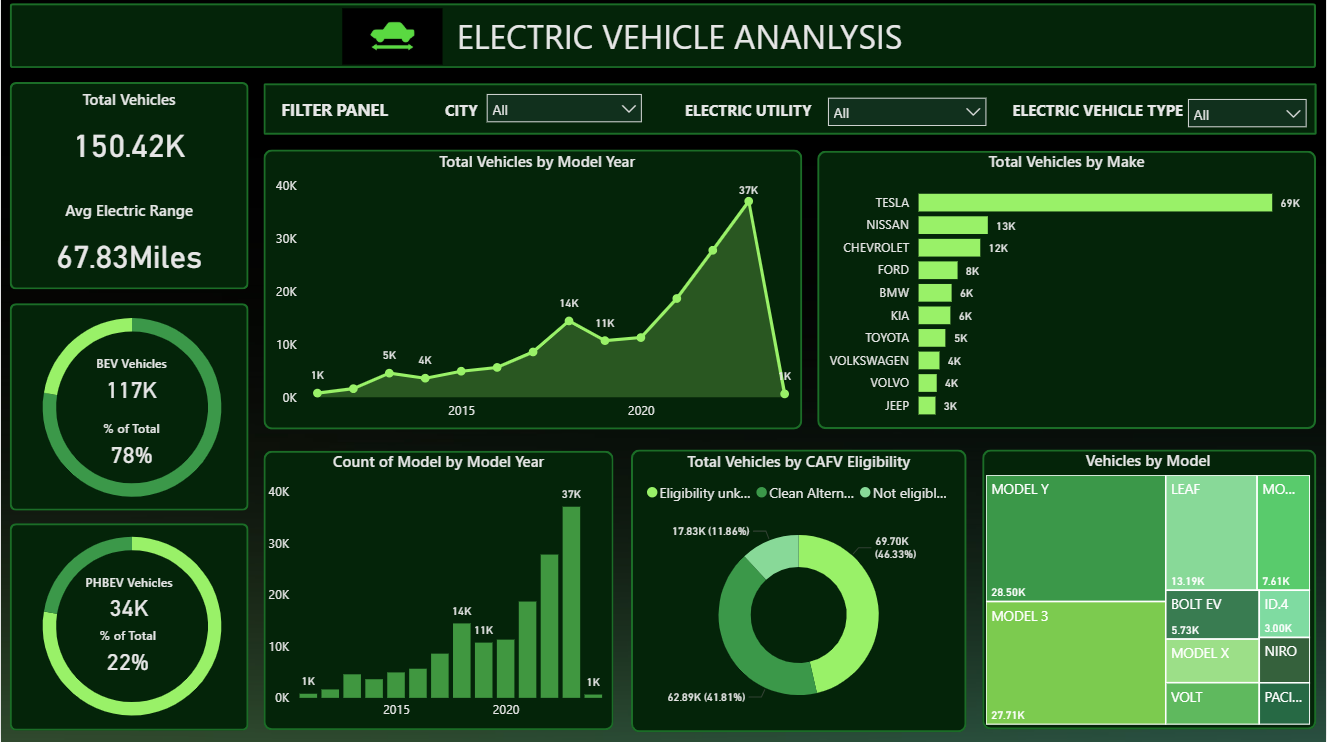

The dashboard page shown, as its layout file describes it:
{"tool":"powerbi","page":{"name":"Page 1","canvas":[1280,720],"ordinal":0},"visuals":[{"type":"shape","box":[8.4,6,1260.7,62.7],"z":0},{"type":"textbox","box":[389.7,10.9,530.8,57.9],"z":1000},{"type":"shape","box":[8.2,82.3,230.5,200.3],"z":2000},{"type":"card","title":"Total Vehicles","fields":{"Values":["Electric_Vehicle_Population_Data.Total Vehicles"]},"box":[8.4,88.1,230.4,88.1],"z":3000},{"type":"card","title":"Avg Electric Range","fields":{"Values":["Electric_Vehicle_Population_Data.AVG Range"]},"box":[8.4,195.4,230.4,86.9],"z":4000},{"type":"shape","box":[8.2,295,230.5,200.3],"z":5000},{"type":"shape","box":[8.2,507.7,230.5,200.3],"z":6000},{"type":"donutChart","fields":{"Category":["Electric_Vehicle_Population_Data.Electric Vehicle Type"],"Y":["Electric_Vehicle_Population_Data.Total Vehicles"]},"box":[0,283.5,253.4,225.6],"z":7000},{"type":"card","title":"BEV Vehicles","fields":{"Values":["Electric_Vehicle_Population_Data.BEV Vehicles"]},"box":[68.8,345,114.6,51.9],"z":8000},{"type":"card","title":"% of Total","fields":{"Values":["Electric_Vehicle_Population_Data.% of BEV"]},"box":[68.8,407.8,114.6,51.9],"z":9000},{"type":"donutChart","fields":{"Category":["Electric_Vehicle_Population_Data.Electric Vehicle Type"],"Y":["Electric_Vehicle_Population_Data.Total Vehicles"]},"box":[0,494.6,253.4,225.6],"z":10000},{"type":"card","title":"PHBEV Vehicles","fields":{"Values":["Electric_Vehicle_Population_Data.PHEV Vehicles"]},"box":[66.4,556.2,114.6,51.9],"z":11000},{"type":"card","title":"% of Total","fields":{"Values":["Electric_Vehicle_Population_Data.% of PHEV"]},"box":[65.1,608,114.6,51.9],"z":12000},{"type":"shape","box":[252.9,82.7,1016.4,49.8],"z":13000},{"type":"shape","box":[253.4,147.2,520,270.2],"z":14000},{"type":"shape","box":[787.8,148.3,481.5,268.7],"z":15000},{"type":"areaChart","fields":{"Category":["Electric_Vehicle_Population_Data.Model Year"],"Y":["Electric_Vehicle_Population_Data.Total Vehicles"]},"box":[260.6,148.4,513.9,269],"z":16000},{"type":"shape","box":[946.8,436.4,322.5,270.3],"z":17000},{"type":"barChart","fields":{"Category":["Electric_Vehicle_Population_Data.Make"],"Y":["Electric_Vehicle_Population_Data.Total Vehicles"]},"box":[787.8,148.3,481.5,268.7],"z":18000},{"type":"shape","box":[607.9,436.4,323.8,273.1],"z":19000},{"type":"donutChart","title":"Total Vehicles by CAFV Eligibility","fields":{"Category":["Electric_Vehicle_Population_Data.Clean Alternative Fuel Vehicle (CAFV) Eligibility"],"Y":["Electric_Vehicle_Population_Data.Total Vehicles"]},"box":[607.6,438.3,324.1,267.6],"z":20000},{"type":"treemap","title":"Vehicles by Model","fields":{"Group":["Electric_Vehicle_Population_Data.Model"],"Values":["Electric_Vehicle_Population_Data.Total Vehicles"]},"box":[946.1,436.9,322.6,270.5],"z":21000},{"type":"textbox","box":[264.8,93.3,123.5,38.4],"z":22000},{"type":"slicer","fields":{"Values":["Electric_Vehicle_Population_Data.City"]},"box":[458.6,83.7,170.2,45.3],"z":23000},{"type":"slicer","fields":{"Values":["Electric_Vehicle_Population_Data.Electric Utility"]},"box":[787.7,86.4,172.9,45.3],"z":24000},{"type":"slicer","fields":{"Values":["Electric_Vehicle_Population_Data.Electric Vehicle Type"]},"box":[1134.8,87.8,134.5,45.3],"z":25000},{"type":"textbox","box":[422.9,94.7,43.9,38.4],"z":26000},{"type":"textbox","box":[654.5,94.7,148.2,38.4],"z":27000},{"type":"textbox","box":[971.5,94.7,188,38.4],"z":28000},{"type":"image","box":[326.9,10.9,101.3,54.3],"z":29000},{"type":"shape","box":[252.9,437.7,338,269.9],"z":30000},{"type":"columnChart","fields":{"Category":["Electric_Vehicle_Population_Data.Model Year"],"Y":["CountNonNull(Electric_Vehicle_Population_Data.Model)"]},"box":[252.9,437.7,338,268.7],"z":31000}]}

Visuals, with their boxes in screenshot pixels (x1, y1, x2, y2), scaled from the page's 1280x720 canvas onto the 1327x742 screenshot:
shape: [left=9, top=6, right=1316, bottom=71]
textbox: [left=404, top=11, right=954, bottom=71]
shape: [left=9, top=85, right=247, bottom=291]
"Total Vehicles" card: [left=9, top=91, right=248, bottom=182]
"Avg Electric Range" card: [left=9, top=201, right=248, bottom=291]
shape: [left=9, top=304, right=247, bottom=510]
shape: [left=9, top=523, right=247, bottom=730]
donutChart - Electric_Vehicle_Population_Data.Electric Vehicle Type x Electric_Vehicle_Population_Data.Total Vehicles: [left=0, top=292, right=263, bottom=525]
"BEV Vehicles" card: [left=71, top=356, right=190, bottom=409]
"% of Total" card: [left=71, top=420, right=190, bottom=474]
donutChart - Electric_Vehicle_Population_Data.Electric Vehicle Type x Electric_Vehicle_Population_Data.Total Vehicles: [left=0, top=510, right=263, bottom=741]
"PHBEV Vehicles" card: [left=69, top=573, right=188, bottom=627]
"% of Total" card: [left=67, top=627, right=186, bottom=680]
shape: [left=262, top=85, right=1316, bottom=137]
shape: [left=263, top=152, right=802, bottom=430]
shape: [left=817, top=153, right=1316, bottom=430]
areaChart - Electric_Vehicle_Population_Data.Model Year x Electric_Vehicle_Population_Data.Total Vehicles: [left=270, top=153, right=803, bottom=430]
shape: [left=982, top=450, right=1316, bottom=728]
barChart - Electric_Vehicle_Population_Data.Make x Electric_Vehicle_Population_Data.Total Vehicles: [left=817, top=153, right=1316, bottom=430]
shape: [left=630, top=450, right=966, bottom=731]
"Total Vehicles by CAFV Eligibility" donutChart: [left=630, top=452, right=966, bottom=727]
"Vehicles by Model" treemap: [left=981, top=450, right=1315, bottom=729]
textbox: [left=275, top=96, right=403, bottom=136]
slicer - Electric_Vehicle_Population_Data.City: [left=475, top=86, right=652, bottom=133]
slicer - Electric_Vehicle_Population_Data.Electric Utility: [left=817, top=89, right=996, bottom=136]
slicer - Electric_Vehicle_Population_Data.Electric Vehicle Type: [left=1176, top=90, right=1316, bottom=137]
textbox: [left=438, top=98, right=484, bottom=137]
textbox: [left=679, top=98, right=832, bottom=137]
textbox: [left=1007, top=98, right=1202, bottom=137]
image: [left=339, top=11, right=444, bottom=67]
shape: [left=262, top=451, right=613, bottom=729]
columnChart - Electric_Vehicle_Population_Data.Model Year x CountNonNull(Electric_Vehicle_Population_Data.Model): [left=262, top=451, right=613, bottom=728]
